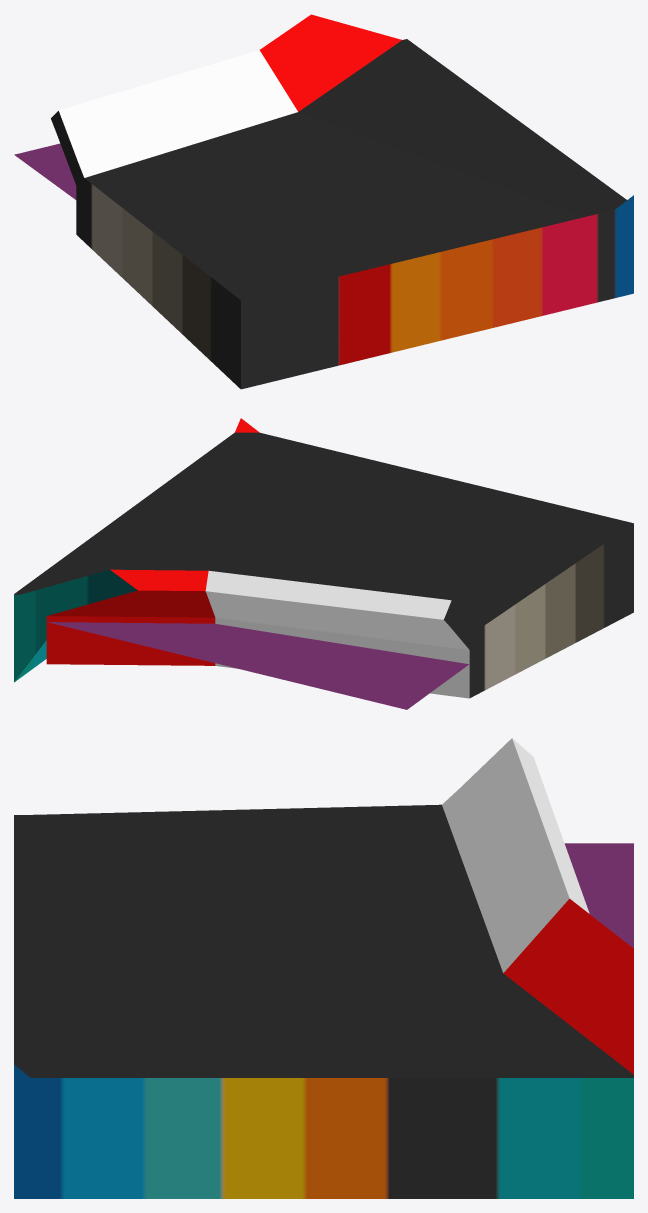
File: tile_20_0_1.gltf
The picture shows the model from 3 angles, top to bottom: view 1: azimuth 30°, elevation 25°; view 2: azimuth 150°, elevation 25°; view 3: azimuth 270°, elevation 25°; orthographic projection. The views are drawn at different scales.
Parts seen in each view (by area): view 1: track.242, Plane; view 2: track.242, Plane; view 3: track.242, Plane.
Boxes of the visible parts, x1,y1,x2,y2 form: track.242: (51,14,633,389); Plane: (14,143,76,199); track.242: (14,418,633,698); Plane: (47,622,468,709); track.242: (14,738,633,1198); Plane: (564,843,633,948).
Bounding box in the file's own units: 8 × 2.83 × 8.
Materials: 1 (1 with a texture image).
